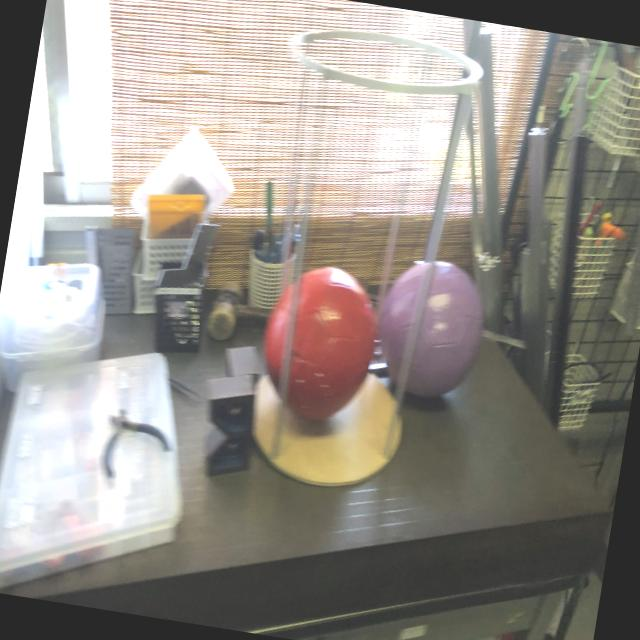purple_ball: (368, 253, 493, 407)
red_ball: (254, 258, 386, 430)
